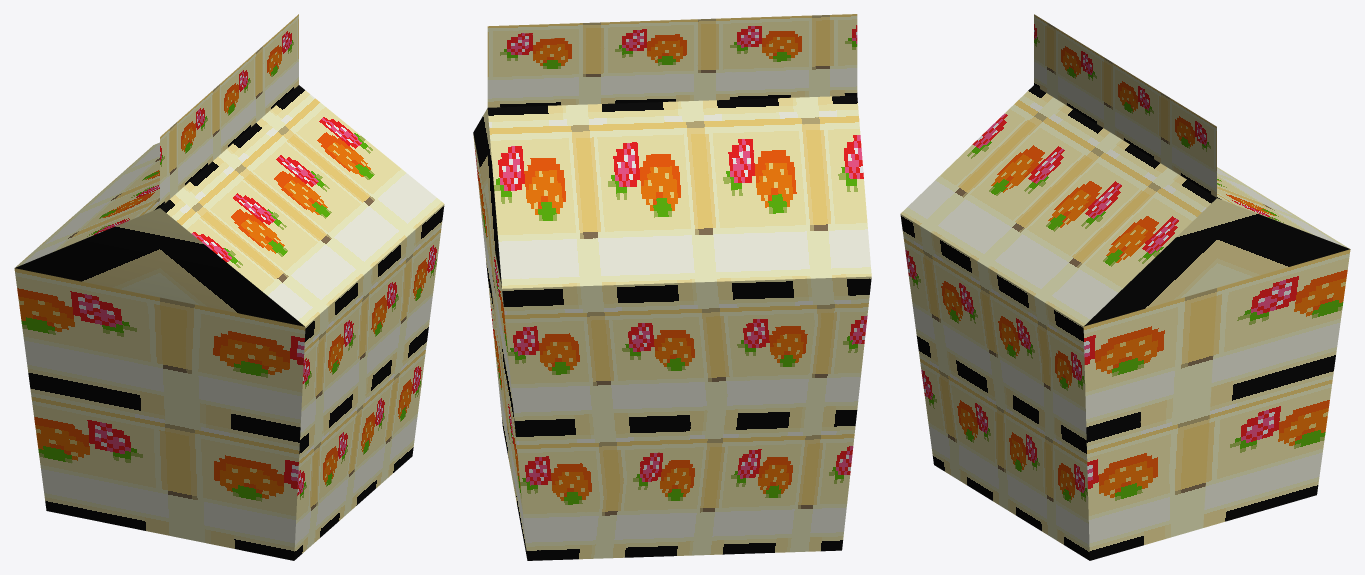
3 views of the same model, side by side, from view 1: azimuth 30°, elevation 25°; view 2: azimuth 150°, elevation 25°; view 3: azimuth 270°, elevation 25° (orthographic). The views are drawn at different scales.
Parts seen in each view (by area): view 1: 5232so_sub00; view 2: 5232so_sub00; view 3: 5232so_sub00.
Boxes of the visible parts, x1=… form: 5232so_sub00: x1=14, y1=14, x2=444, y2=560; 5232so_sub00: x1=473, y1=14, x2=871, y2=560; 5232so_sub00: x1=900, y1=14, x2=1350, y2=560.
Bounding box in the file's own units: 0.583 × 0.5854 × 0.583.
Materials: 1 (1 with a texture image).
